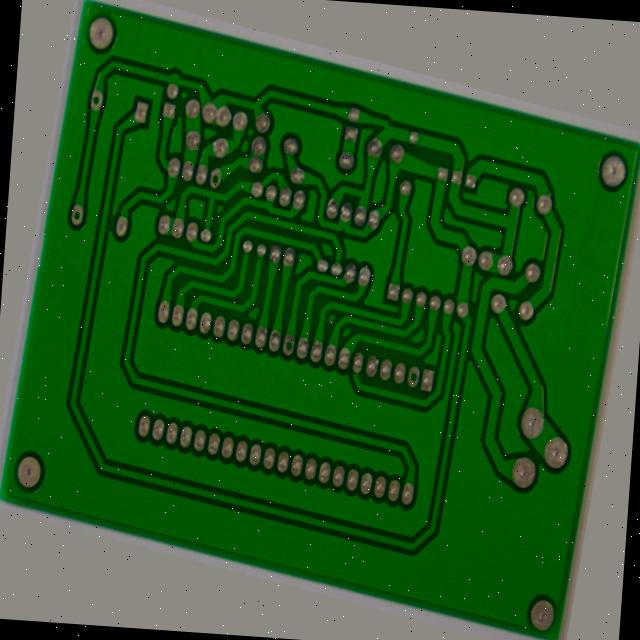missing_hole: (35, 236, 58, 269), (277, 341, 300, 373), (416, 348, 436, 380), (184, 159, 203, 192), (46, 96, 64, 128)
